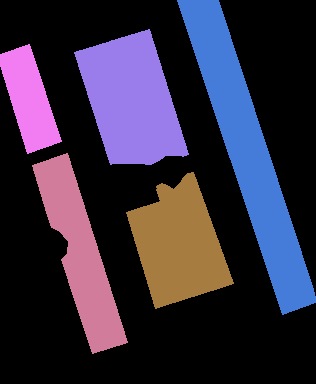parkingspot: (177, 0, 316, 314), (32, 153, 127, 353), (109, 29, 188, 164), (74, 40, 153, 164), (156, 172, 233, 296), (126, 200, 195, 308), (0, 44, 61, 153)
